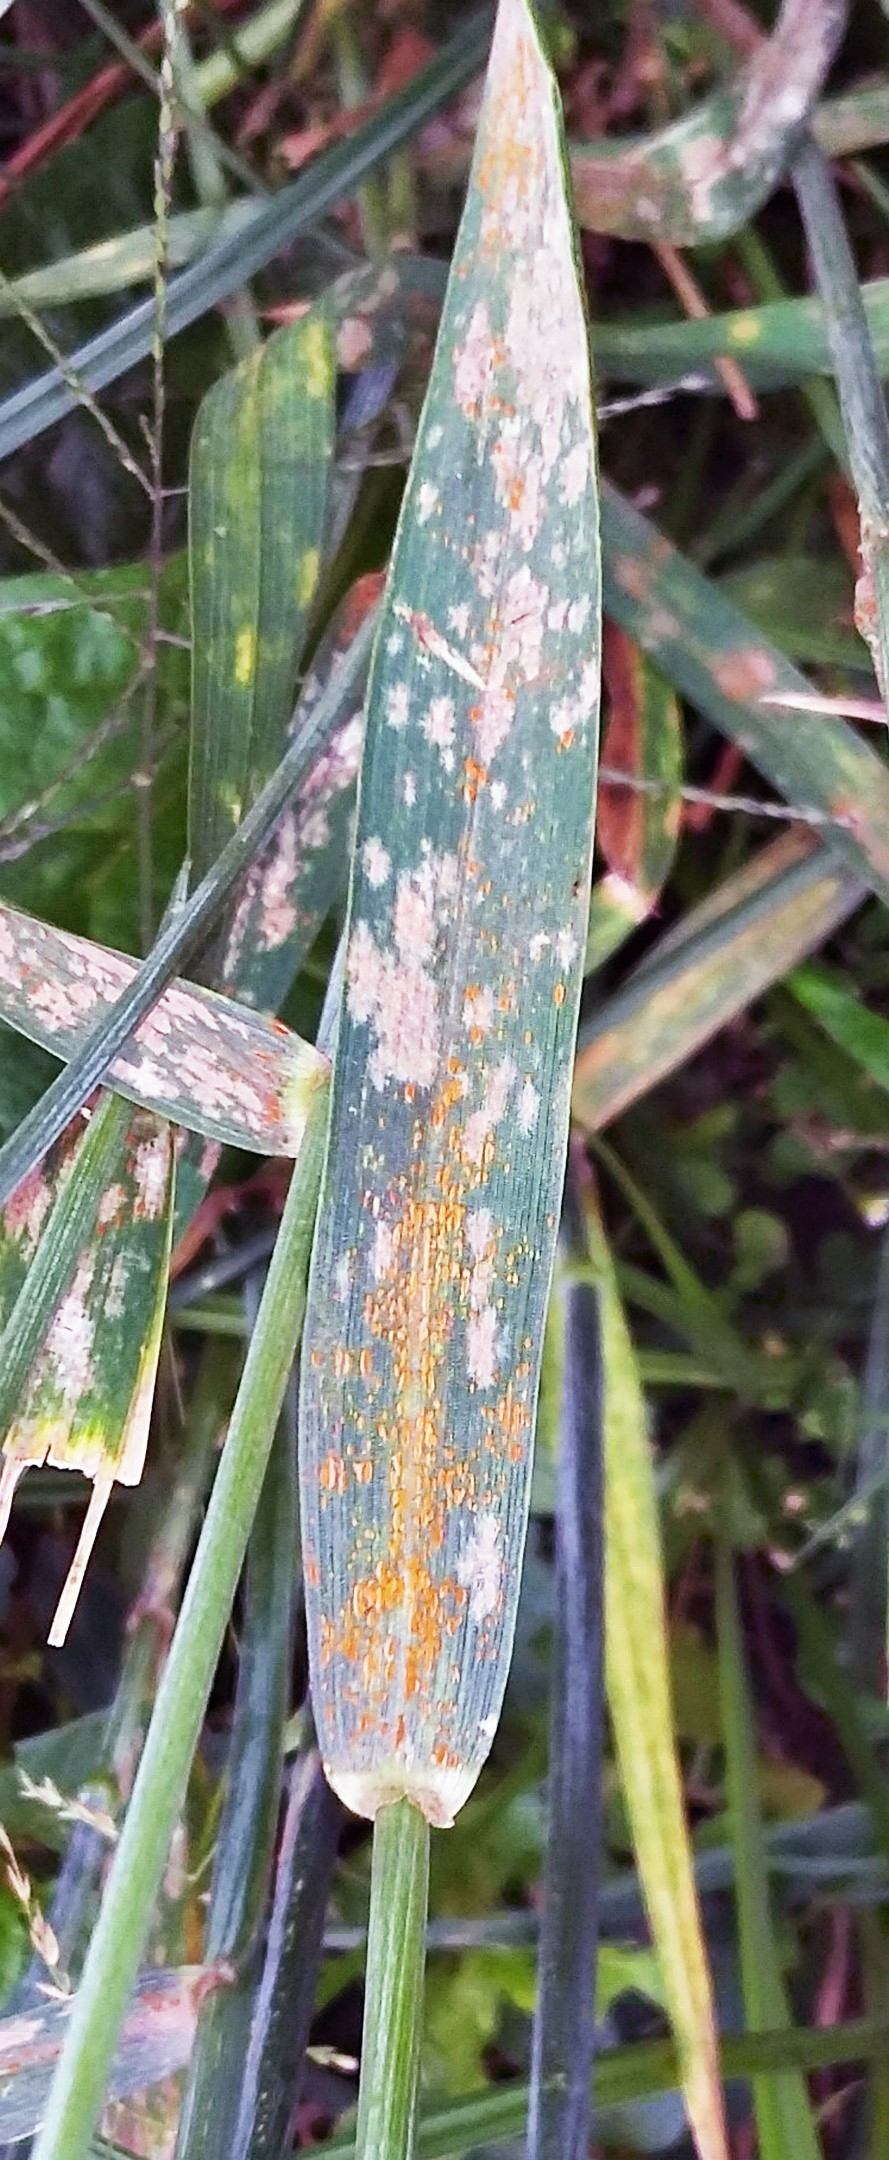Leaf Rust: (285, 1068, 587, 1770)
